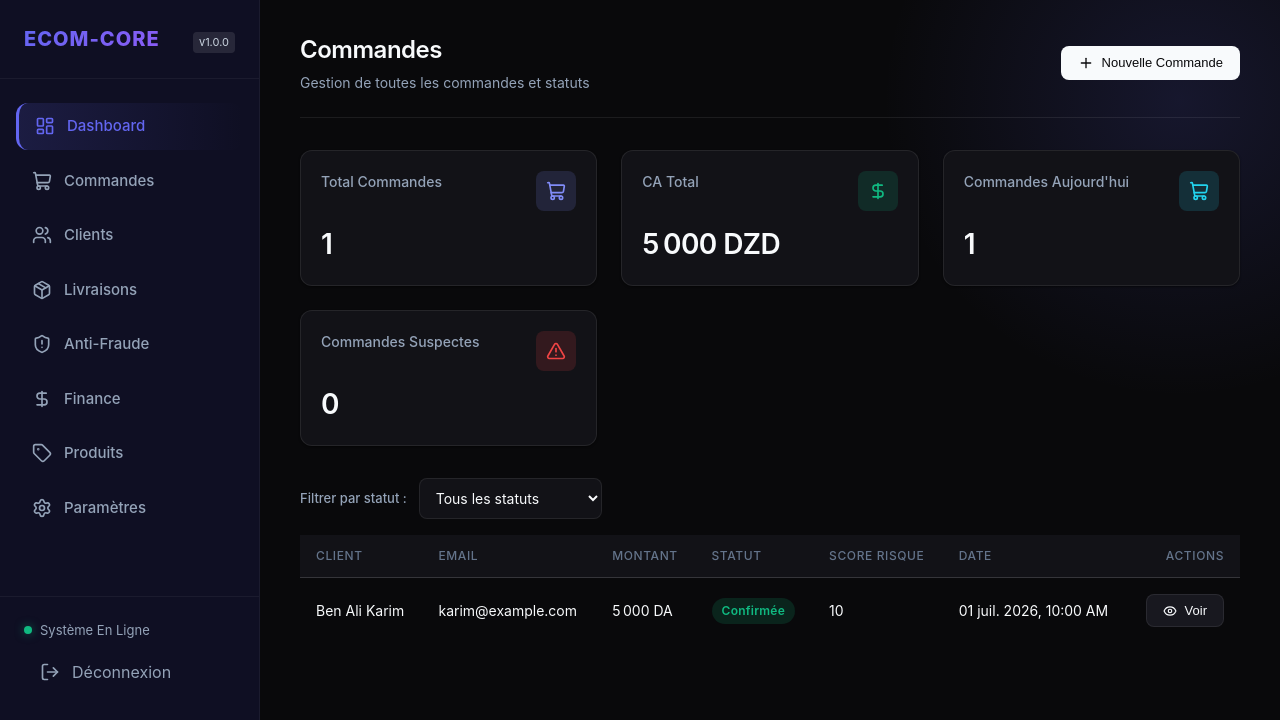
Test: OrdersPage (smoke test module Commandes) › filtre par statut
Check: the text "Ben Ali Karim" is shown, box 300,578 -> 422,643
Select "Livrée" in the dropdown labelled "Filtrer par statut :" at (510, 498), box 419,478 -> 602,519
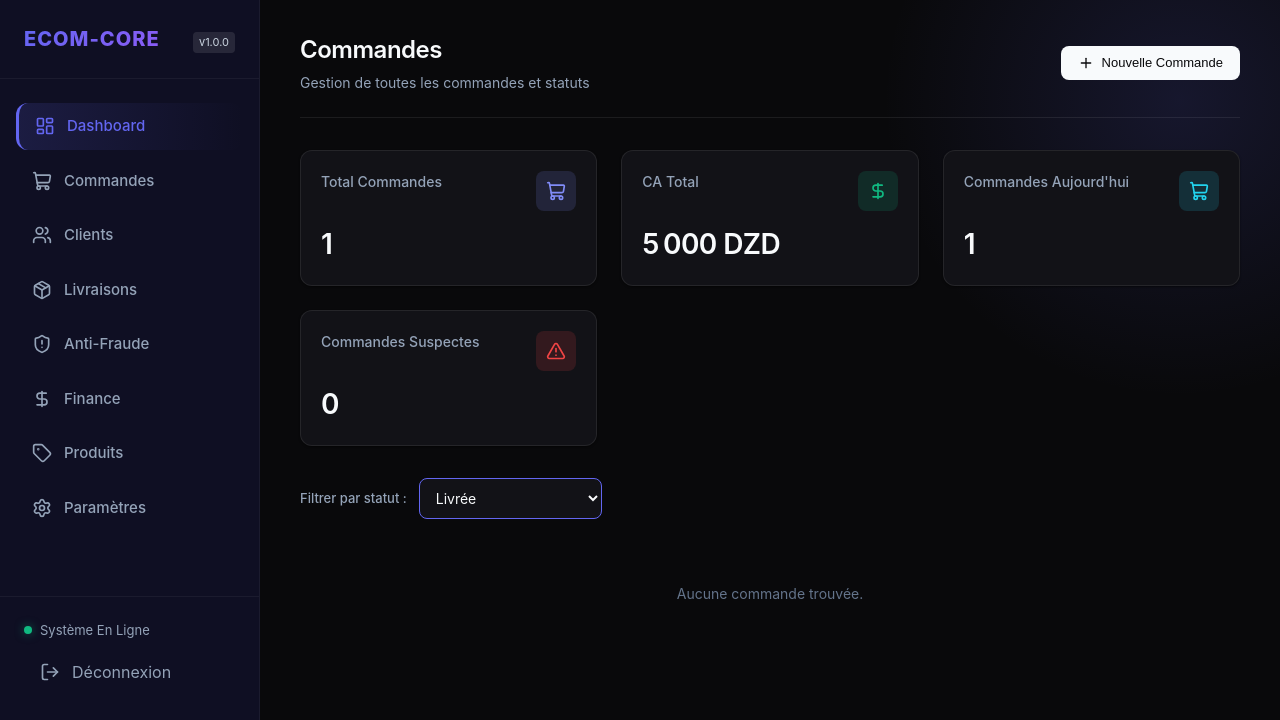
Check: the text "Ben Ali Karim" is gone
Check: the text "Aucune commande trouvée." is shown, box 677,583 -> 863,604
